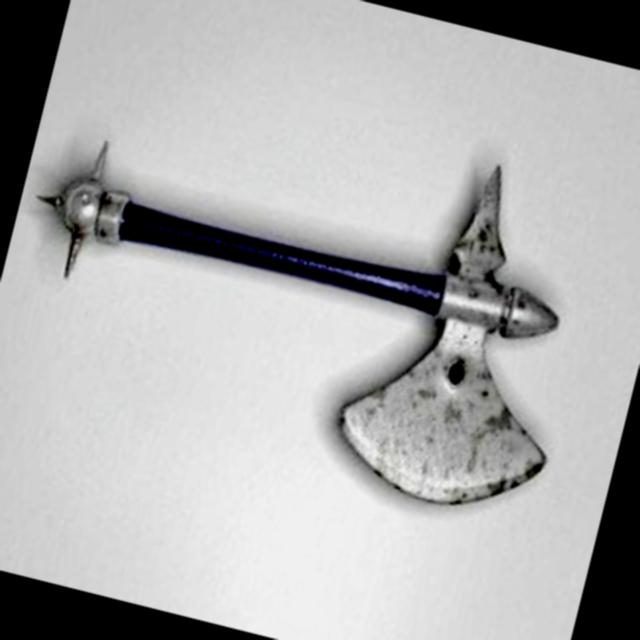ax: (0, 40, 628, 549)
